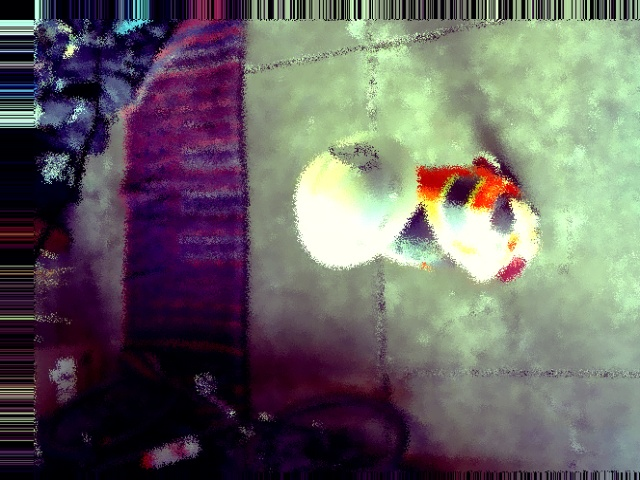two: (327, 142, 376, 166)
